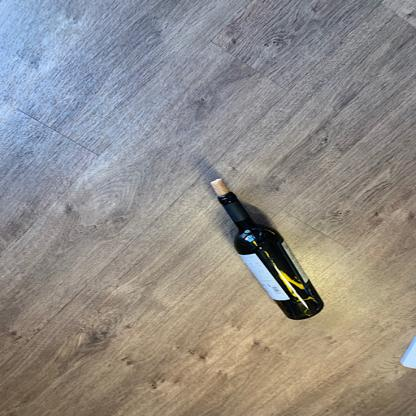trash: (214, 190, 328, 324)
